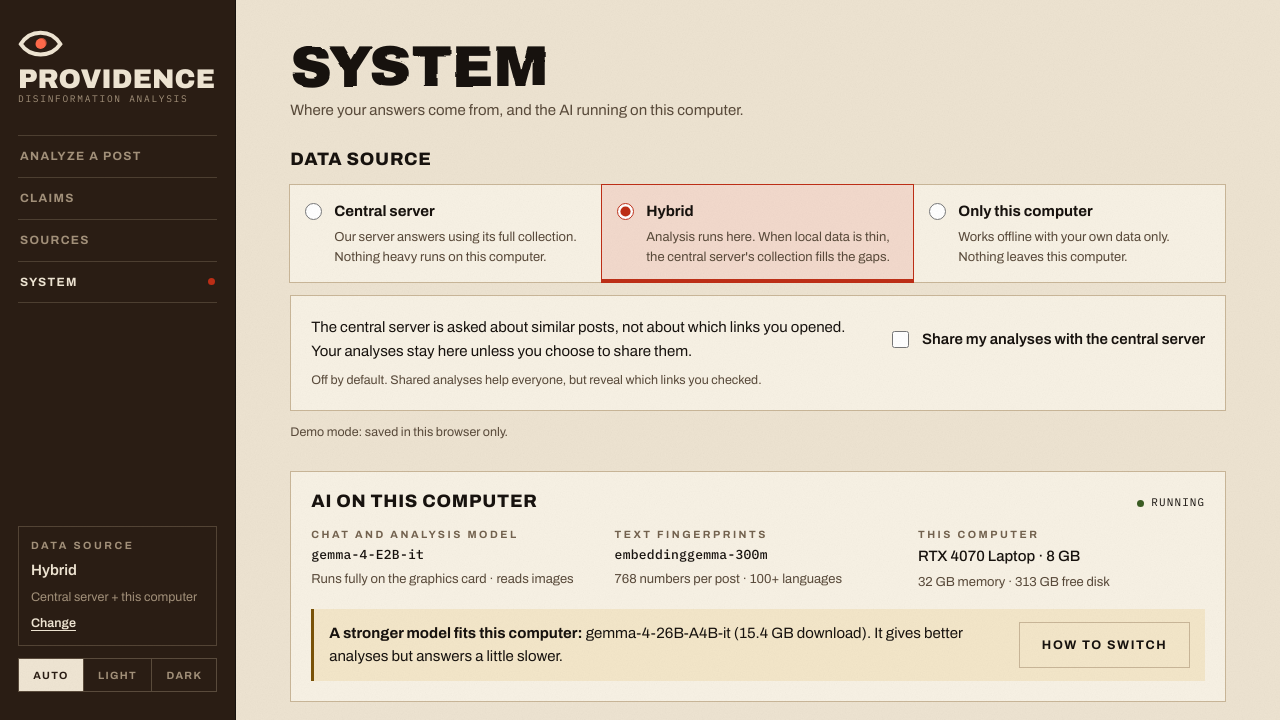
System › choosing a data source updates the note and the sidebar
The image size is (1280, 720).
Click the radio button labelled "Central server".
click(314, 211)  # box [305,203,322,220]
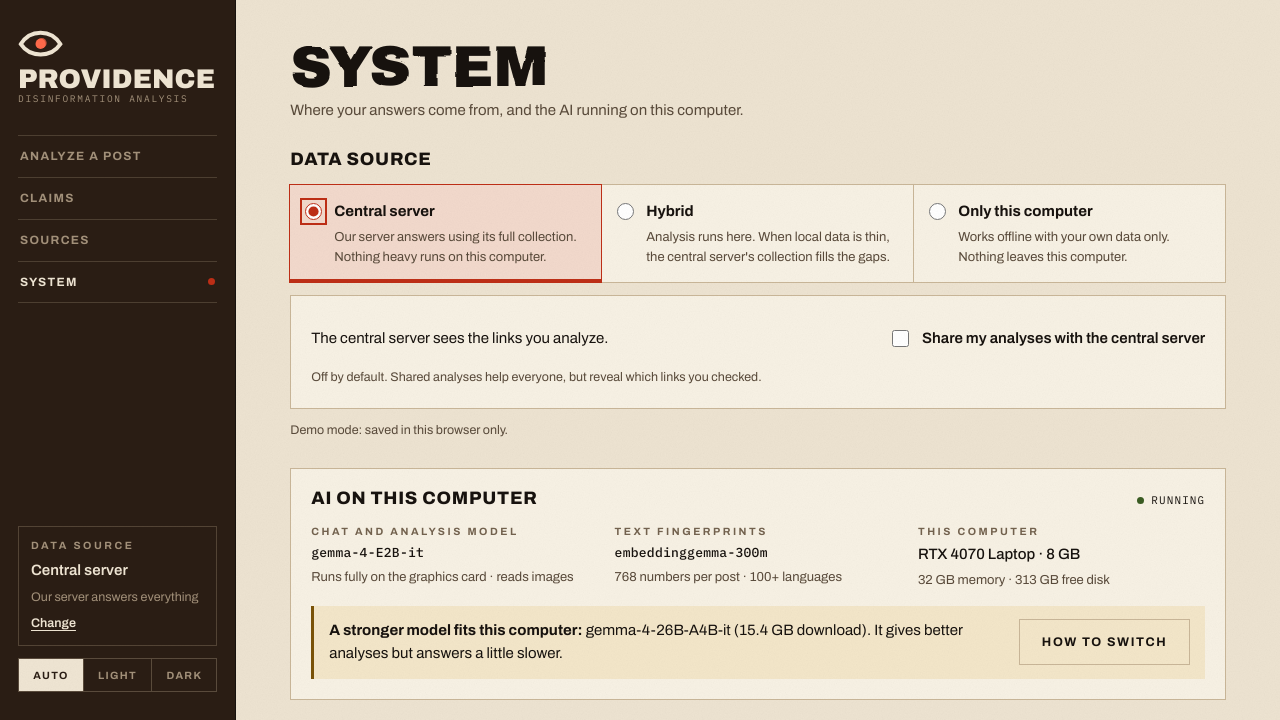
expect the element with test id "data-source" shows "Central server": met, box [31,562,128,578]
expect the radio button labelled "Central server" is checked: met, box [305,203,322,220]
expect the text with test id "privacy-note" shows "sees the links you analyze": met, box [311,330,608,346]
